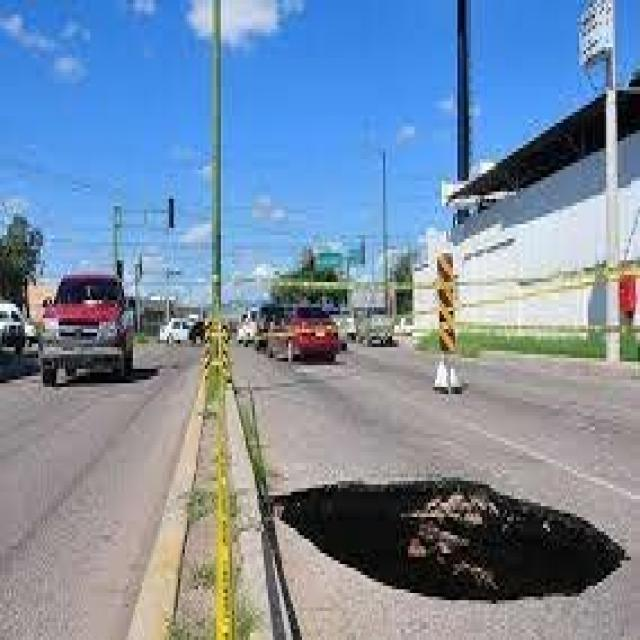Pothole: (263, 408, 640, 632)
